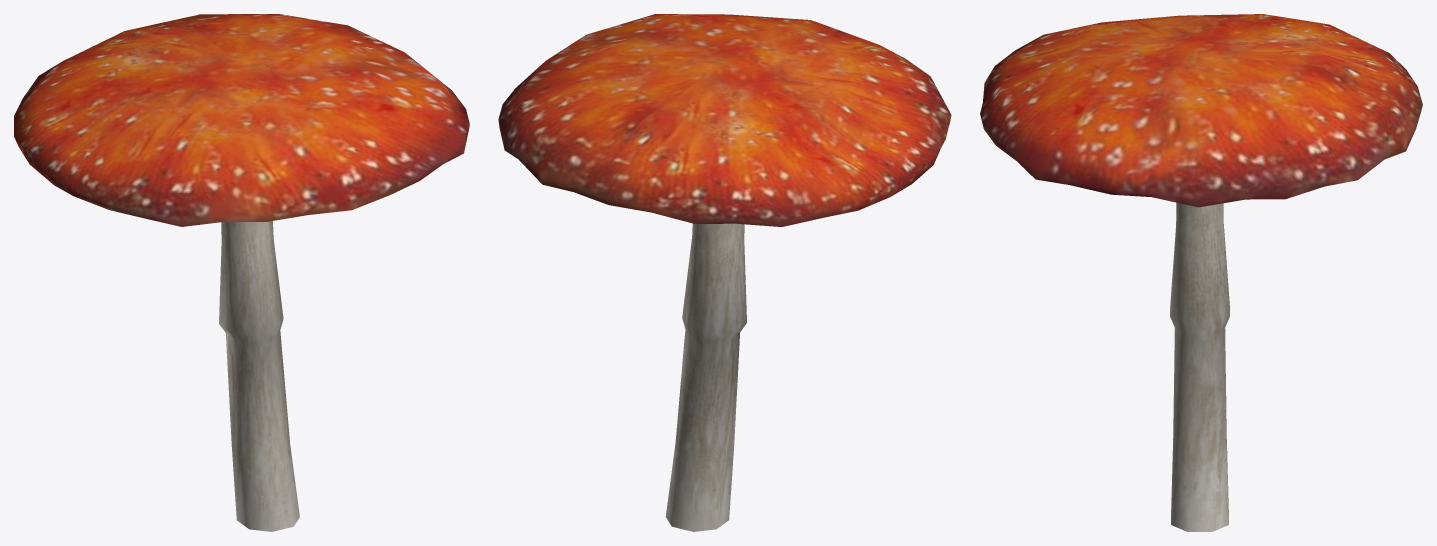
The model's file is mushroom01.FBX.
3 renders of one model, left to right at view 1: azimuth 30°, elevation 25°; view 2: azimuth 150°, elevation 25°; view 3: azimuth 270°, elevation 25°, orthographic.
Parts seen in each view (by area): view 1: mogu01; view 2: mogu01; view 3: mogu01.
Part boxes in pixels (box(x1,y1,x2,y2)): mogu01: box(14, 14, 469, 531); mogu01: box(498, 14, 951, 531); mogu01: box(980, 14, 1422, 531).
Size of the model in its own units: 0.0612 by 0.0701 by 0.062.
